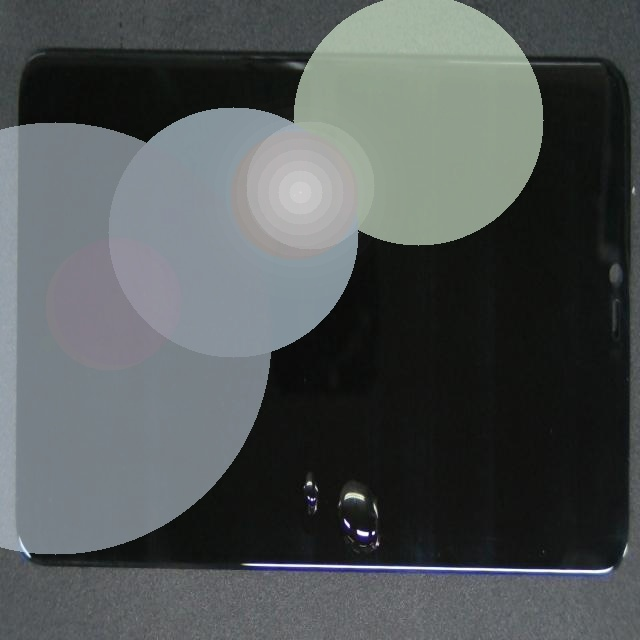oil: (189, 291, 567, 640), (149, 211, 451, 640)
